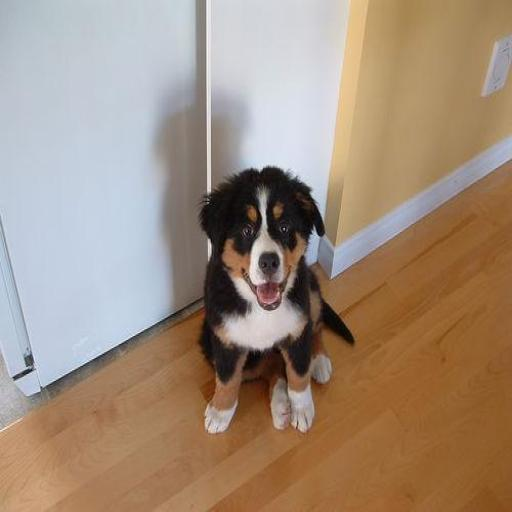dog_face: (202, 173, 326, 308)
